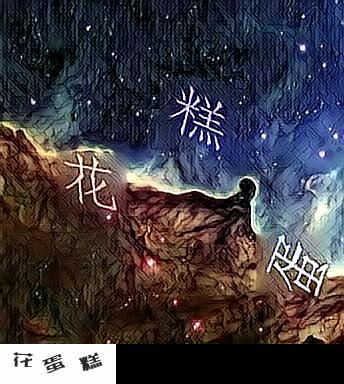character: (263, 230, 331, 303), (168, 82, 229, 155), (59, 150, 124, 214)
